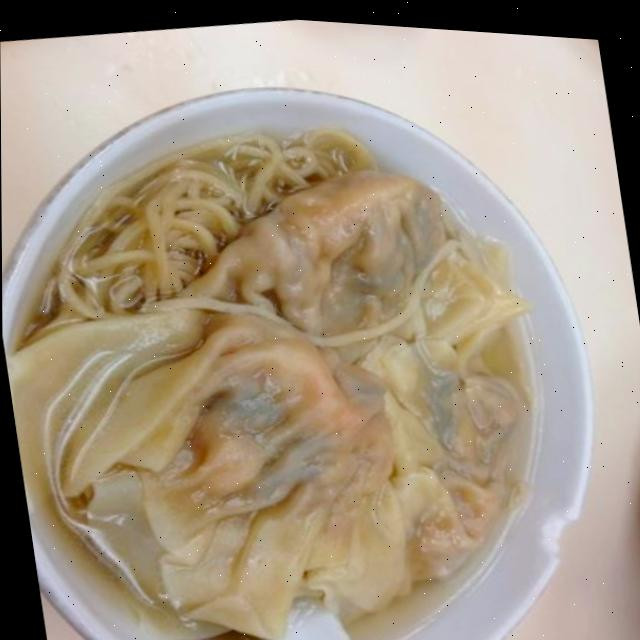带馅早点: (0, 28, 636, 640)
